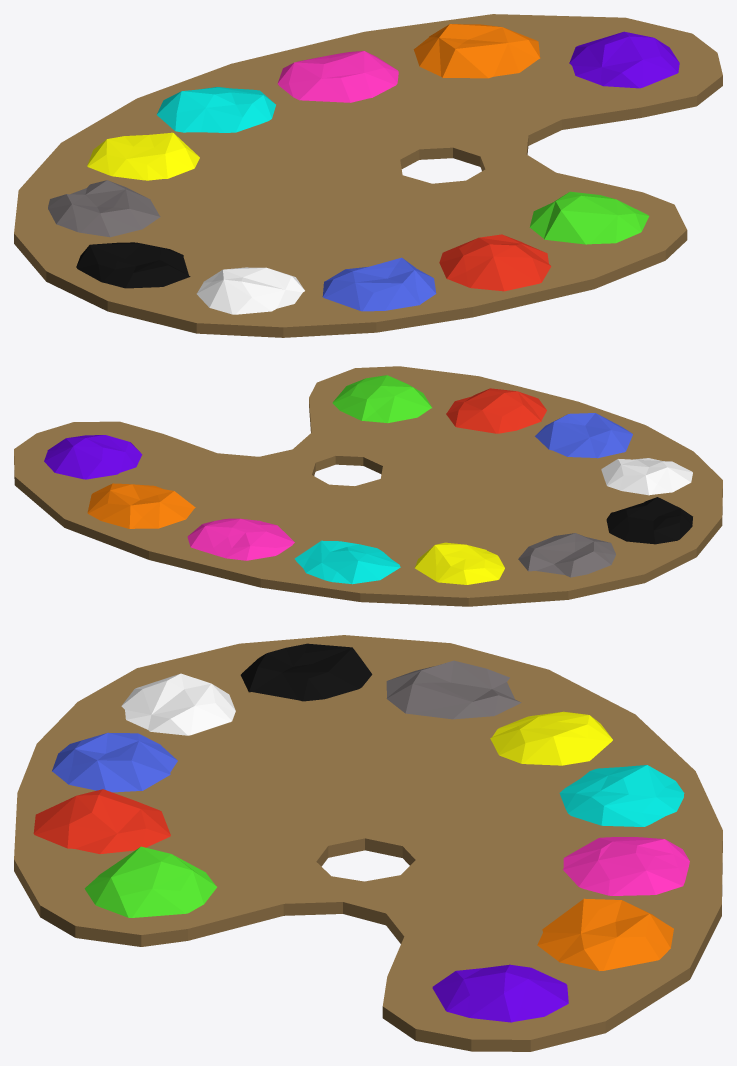
The model's file is LowPoly_PaintPallet_Combined.fbx.
3 renders of one model, top to bottom at view 1: azimuth 30°, elevation 25°; view 2: azimuth 150°, elevation 25°; view 3: azimuth 270°, elevation 25°, orthographic. The views are drawn at different scales.
Parts seen in each view (by area): view 1: Blob.009; view 2: Blob.009; view 3: Blob.009.
Part boxes in pixels (x1,y1,x2,y2): Blob.009: [14, 14, 722, 337]; Blob.009: [14, 366, 722, 606]; Blob.009: [14, 635, 722, 1051].
Size of the model in its own units: 1375 by 61.62 by 1017.
